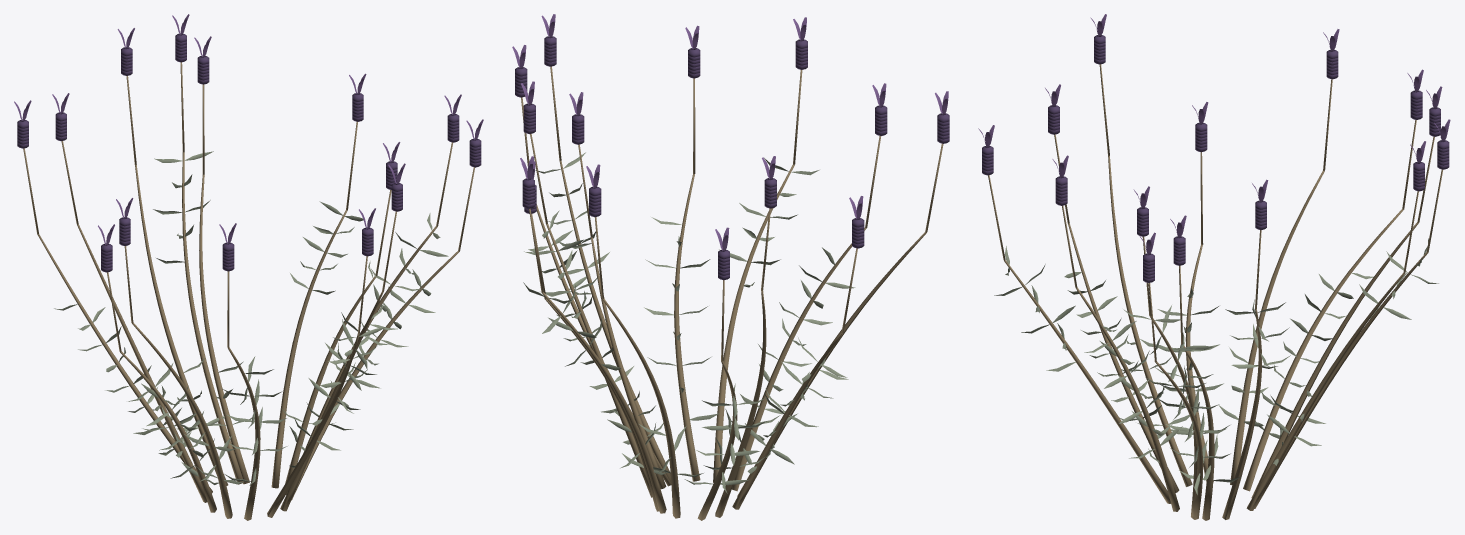
The model's file is Lavande_0_Niveau1.fbx.
The picture shows the model from 3 angles, left to right: view 1: azimuth 30°, elevation 25°; view 2: azimuth 150°, elevation 25°; view 3: azimuth 270°, elevation 25°; orthographic projection. The views are drawn at different scales.
Visible parts, largest first — view 1: Lavande_0_Niveau1_Jeu; view 2: Lavande_0_Niveau1_Jeu; view 3: Lavande_0_Niveau1_Jeu.
Part boxes in pixels (left/top/right/bottom): Lavande_0_Niveau1_Jeu: left=14, top=14, right=483, bottom=520; Lavande_0_Niveau1_Jeu: left=512, top=14, right=949, bottom=520; Lavande_0_Niveau1_Jeu: left=978, top=14, right=1450, bottom=520.
Bounding box in the file's own units: 49.14 × 47.88 × 50.37.
